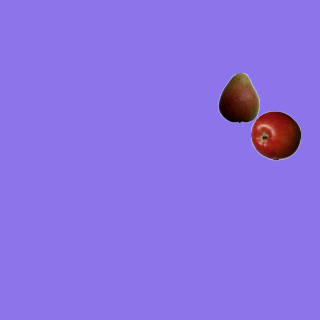Apple Braeburn: (250, 110, 300, 160)
Pear Forelle: (213, 72, 263, 122)
